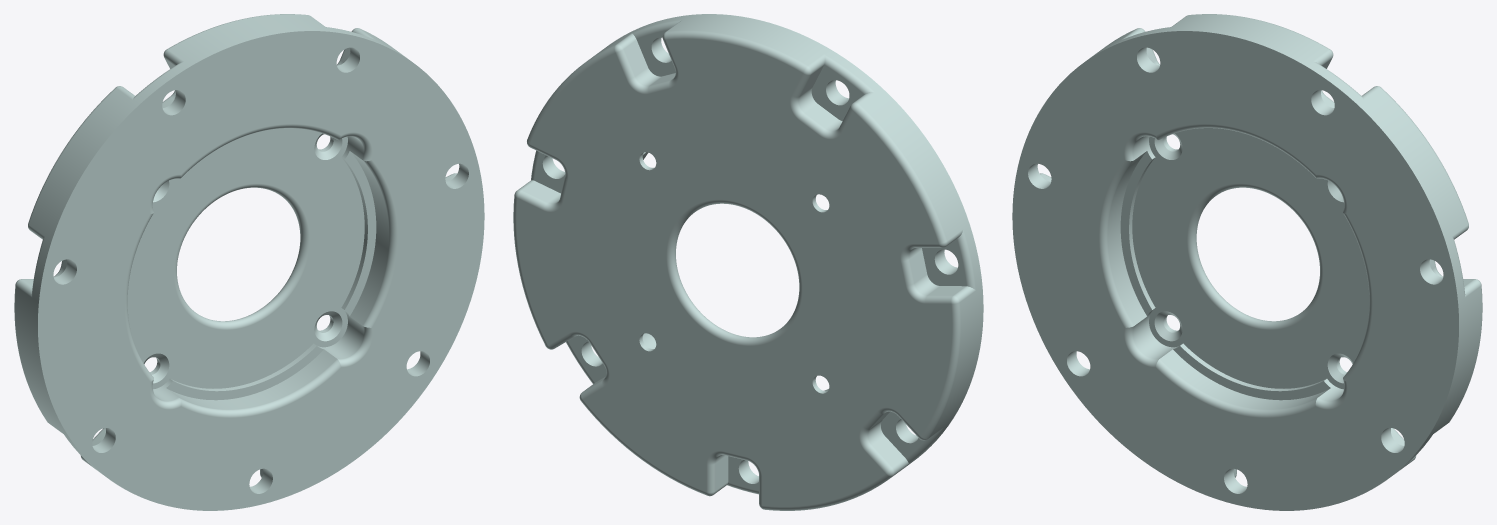
The model's file is gearbox_housing.gltf.
3 views of the same model, side by side, from view 1: azimuth 30°, elevation 25°; view 2: azimuth 150°, elevation 25°; view 3: azimuth 330°, elevation 25° (orthographic).
Parts seen in each view (by area): view 1: mesh301, mesh321, mesh274, mesh296, mesh310, mesh306, mesh304, mesh303, mesh313, mesh307, mesh311, mesh315 (+3 smaller); view 2: mesh291, mesh274, mesh296, mesh182, mesh180, mesh236, mesh165, mesh231, mesh200, mesh193, mesh272, mesh267 (+4 smaller); view 3: mesh301, mesh321, mesh274, mesh296, mesh324, mesh306, mesh314, mesh303, mesh326, mesh307, mesh323, mesh315 (+3 smaller).
Boxes of the visible parts, x1,y1,x2,y2 form: mesh301: (38, 31, 484, 510); mesh321: (127, 128, 364, 389); mesh274: (15, 14, 407, 475); mesh296: (173, 183, 309, 329); mesh310: (350, 151, 389, 325); mesh306: (166, 349, 336, 409); mesh304: (363, 160, 397, 327); mesh303: (179, 359, 341, 417); mesh313: (345, 151, 376, 315); mesh307: (166, 346, 323, 400); mesh311: (317, 309, 363, 358); mesh315: (181, 124, 341, 177); mesh291: (516, 39, 952, 506); mesh274: (589, 14, 983, 463); mesh296: (666, 199, 802, 345); mesh182: (853, 104, 946, 243); mesh180: (665, 30, 807, 72); mesh236: (921, 302, 960, 438); mesh165: (811, 65, 864, 120); mesh231: (922, 239, 966, 286); mesh200: (527, 45, 615, 143); mesh193: (636, 30, 675, 76); mesh272: (762, 474, 891, 510); mesh267: (881, 411, 923, 458); mesh301: (1012, 31, 1458, 510); mesh321: (1132, 128, 1369, 389); mesh274: (1089, 14, 1481, 475); mesh296: (1187, 183, 1323, 329); mesh324: (1107, 151, 1146, 325); mesh306: (1160, 349, 1330, 409); mesh314: (1099, 160, 1133, 327); mesh303: (1155, 359, 1317, 417); mesh326: (1120, 151, 1151, 315); mesh307: (1173, 346, 1330, 400); mesh323: (1133, 309, 1179, 358); mesh315: (1155, 124, 1315, 177).
Bounding box in the file's own units: 0.08 × 0.08 × 0.008.
